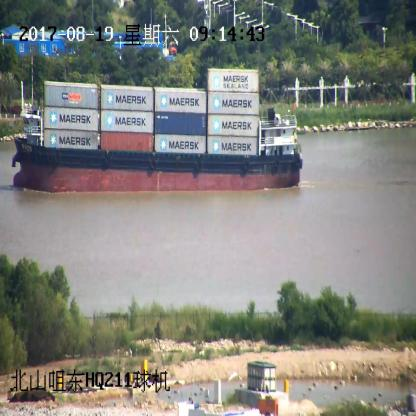Container Ship: (10, 66, 303, 194)
